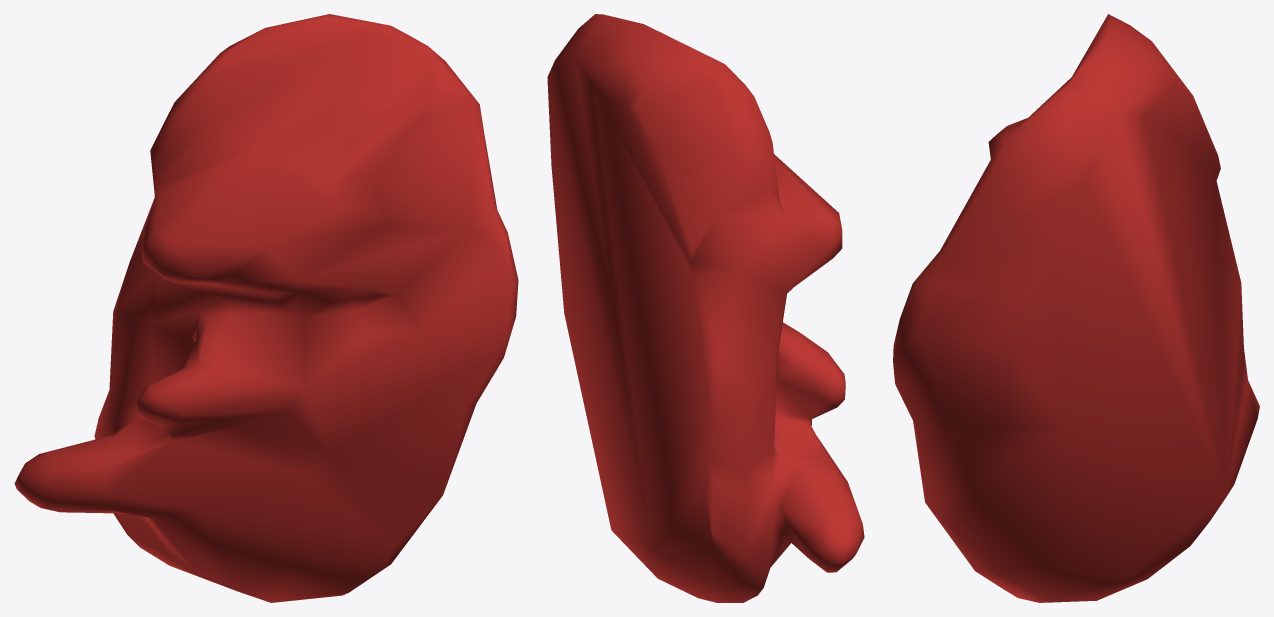
File: circulatorio-septal-papillary-muscle-of-right-ventricle.glb
The picture shows the model from 3 angles, left to right: view 1: azimuth 30°, elevation 25°; view 2: azimuth 150°, elevation 25°; view 3: azimuth 270°, elevation 25°; orthographic projection. The views are drawn at different scales.
Visible parts, largest first — view 1: Septal papillary muscle of right ventricle; view 2: Septal papillary muscle of right ventricle; view 3: Septal papillary muscle of right ventricle.
Part boxes in pixels (x1,y1,x2,y2): Septal papillary muscle of right ventricle: (14,14,518,602); Septal papillary muscle of right ventricle: (547,14,864,602); Septal papillary muscle of right ventricle: (893,14,1259,602).
Size of the model in its own units: 0.0201 by 0.0278 by 0.0159.
